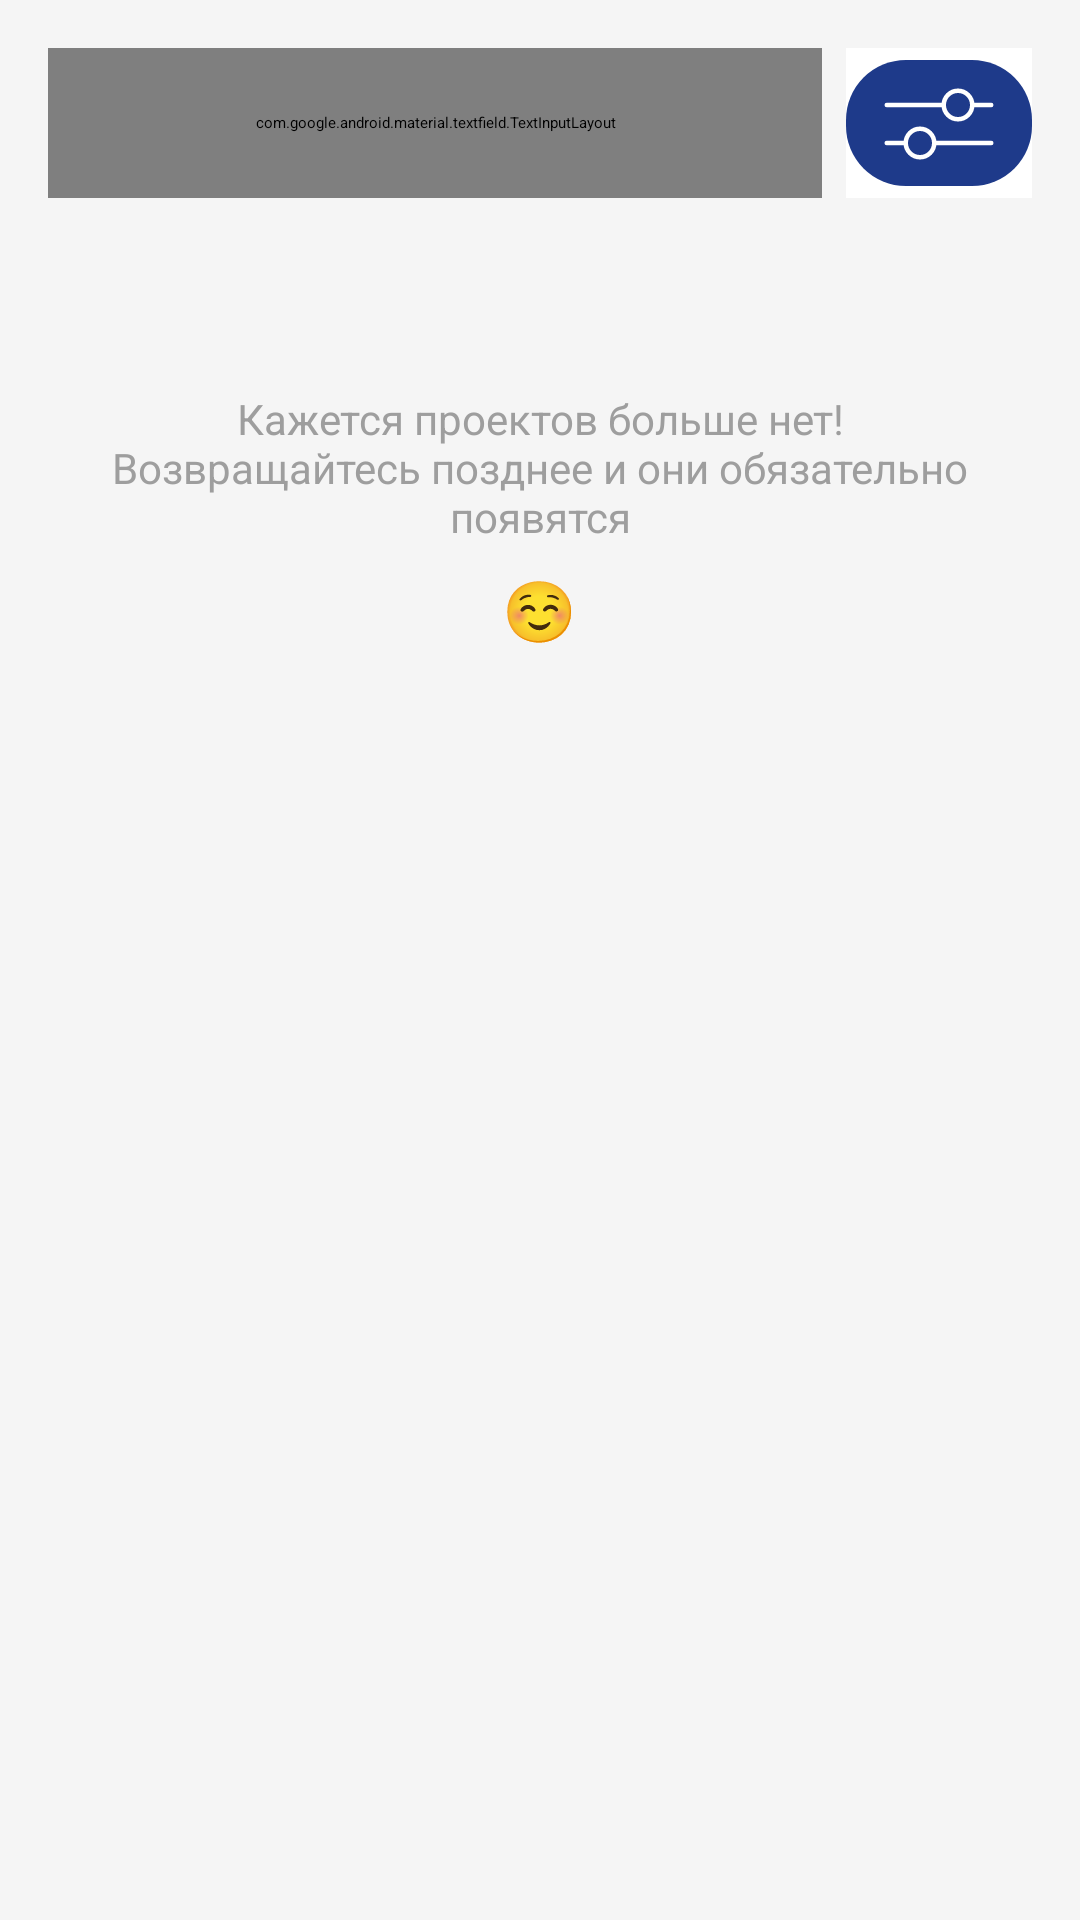

Named icons in this screenshot (1080*1920) and their bounding boxes, (x1, y1, x2, y2):
Фильтр: (846, 60, 1032, 186)
